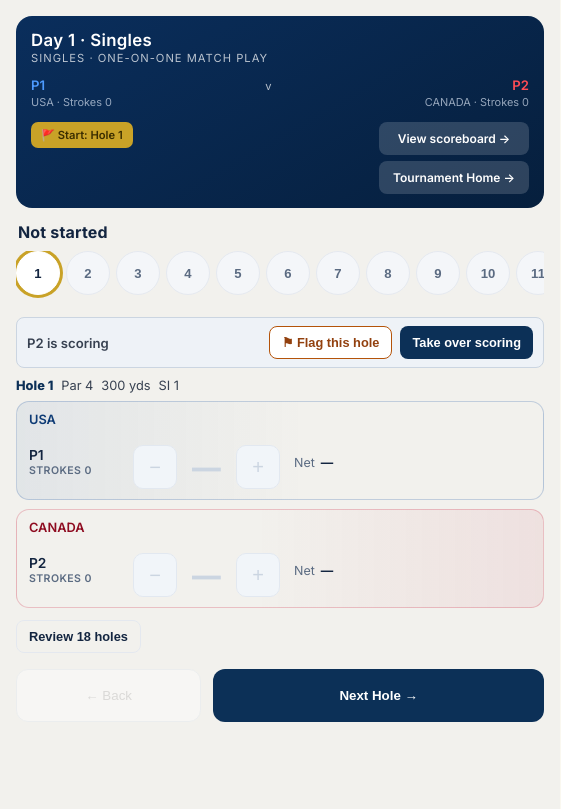
Scenario: match scorecard — flag this hole (B) › a non-scorer flags the current hole — metadata write, no score touched
Click the button with test id "flag-hole-500" at (331, 342), box [269,326,392,359]
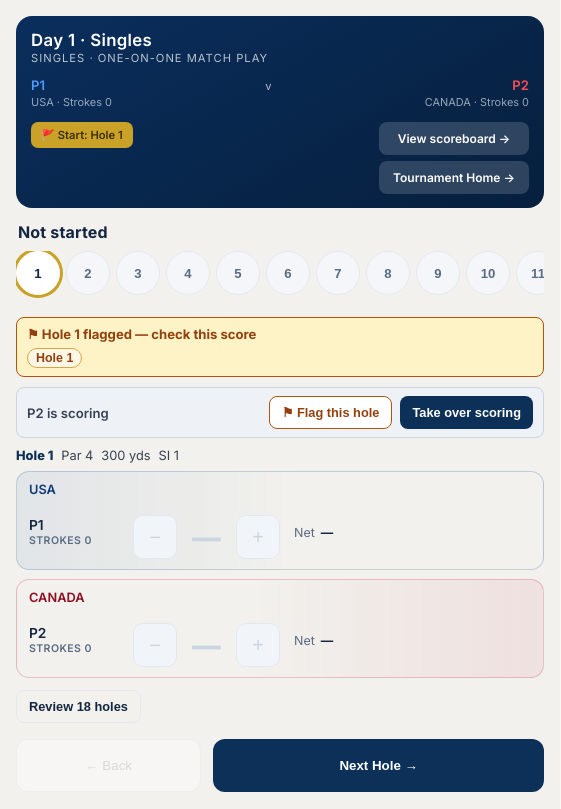
Now the element with test id "flag-marker-500" shows "Hole 1 flagged", box [16,317,544,377]
